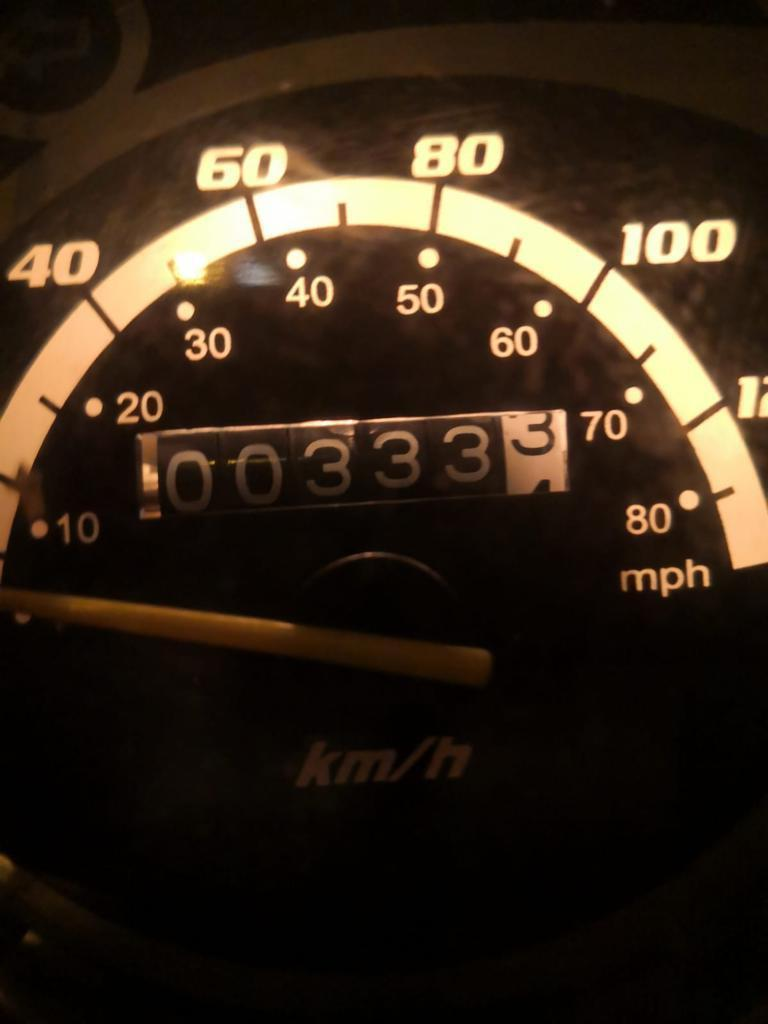0: (162, 446, 216, 516), (232, 440, 286, 508)
3: (437, 422, 494, 486), (299, 435, 354, 499), (369, 427, 424, 491), (505, 410, 557, 458)
odometer: (123, 407, 575, 523)
